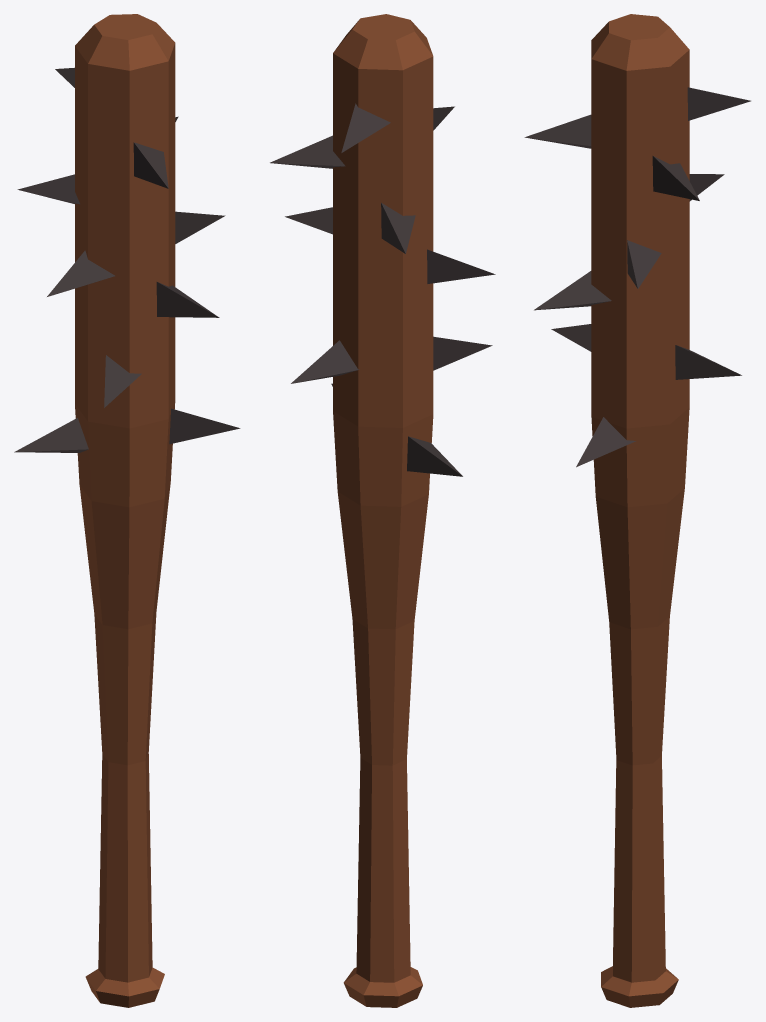
File: LP_PostApoc_Circle_001.fbx
The picture shows the model from 3 angles, left to right: view 1: azimuth 30°, elevation 25°; view 2: azimuth 150°, elevation 25°; view 3: azimuth 270°, elevation 25°; orthographic projection.
Parts seen in each view (by area): view 1: Circle.001; view 2: Circle.001; view 3: Circle.001.
Boxes of the visible parts, x1,y1,x2,y2 form: Circle.001: (14, 14, 240, 1007); Circle.001: (270, 14, 495, 1007); Circle.001: (524, 14, 750, 1007).
Size of the model in its own units: 14.03 by 66.34 by 14.18.
